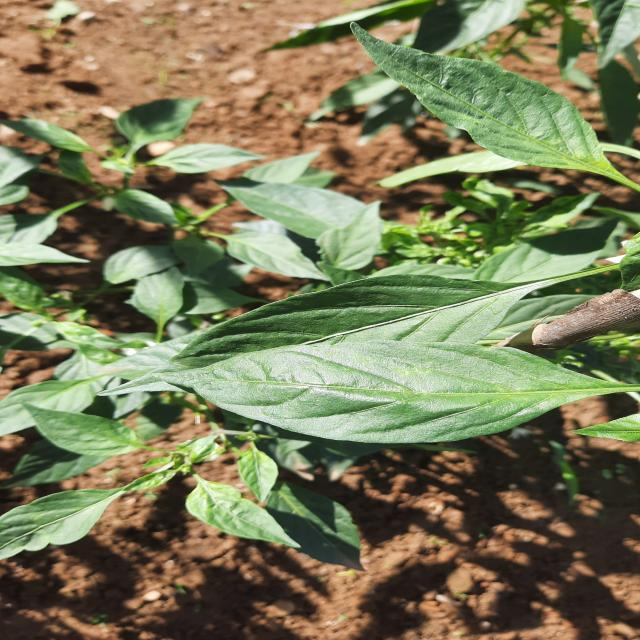sehat: (151, 339, 597, 446), (199, 220, 344, 286), (222, 180, 364, 233)
